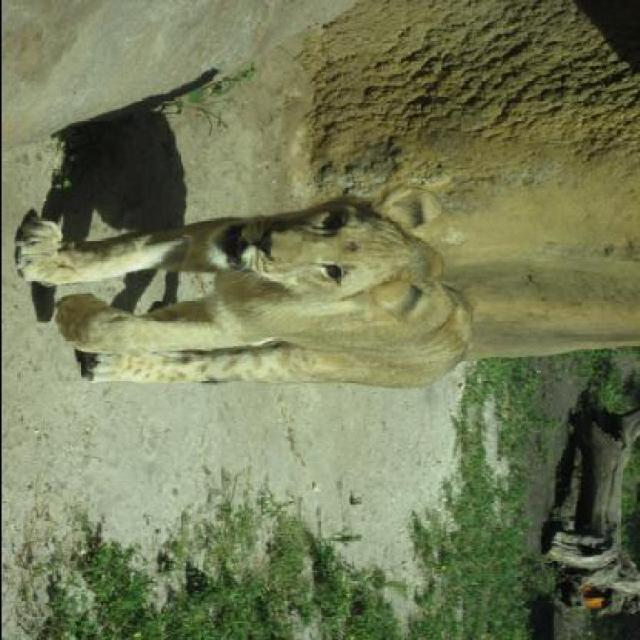Lion: (2, 149, 520, 426)
